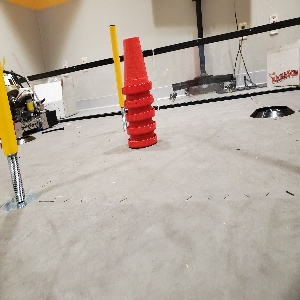Red_5: (120, 37, 157, 148)
